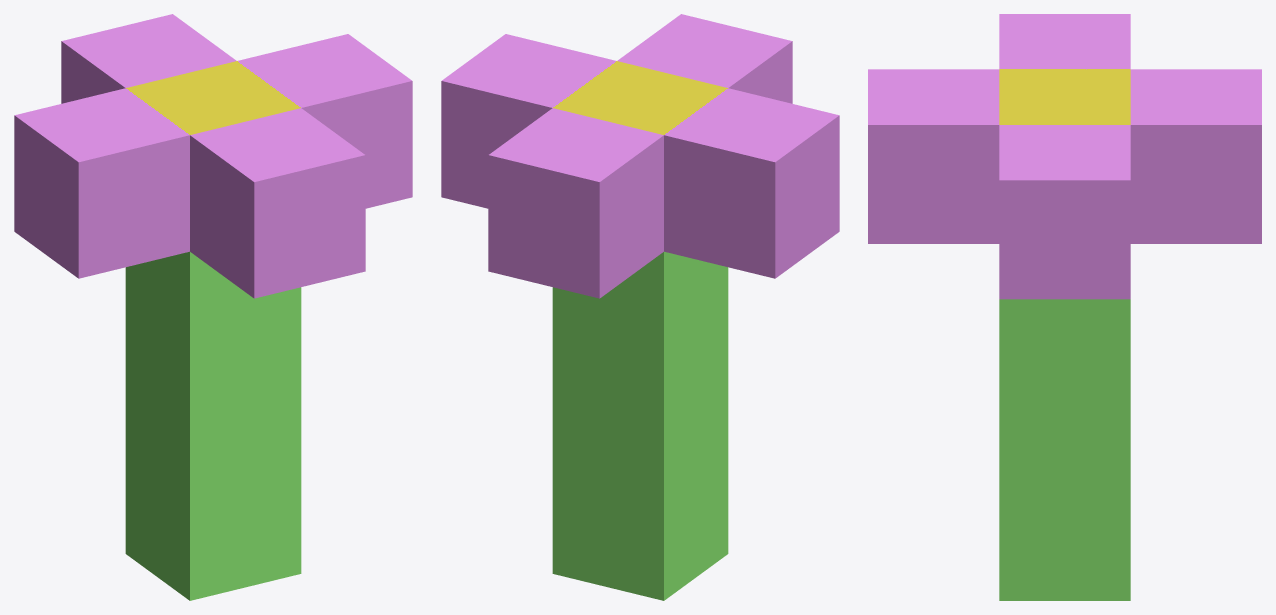
The model's file is flower4.obj.
The picture shows the model from 3 angles, left to right: view 1: azimuth 30°, elevation 25°; view 2: azimuth 150°, elevation 25°; view 3: azimuth 270°, elevation 25°; orthographic projection. The views are drawn at different scales.
Parts seen in each view (by area): view 1: PlumpStandardMushroom_5; view 2: PlumpStandardMushroom_5; view 3: PlumpStandardMushroom_5.
Part boxes in pixels (left/top/right/bottom): PlumpStandardMushroom_5: left=14, top=14, right=412, bottom=600; PlumpStandardMushroom_5: left=441, top=14, right=839, bottom=600; PlumpStandardMushroom_5: left=868, top=14, right=1261, bottom=600.
Size of the model in its own units: 3 by 4 by 3.
Materials: 1 (1 with a texture image).
